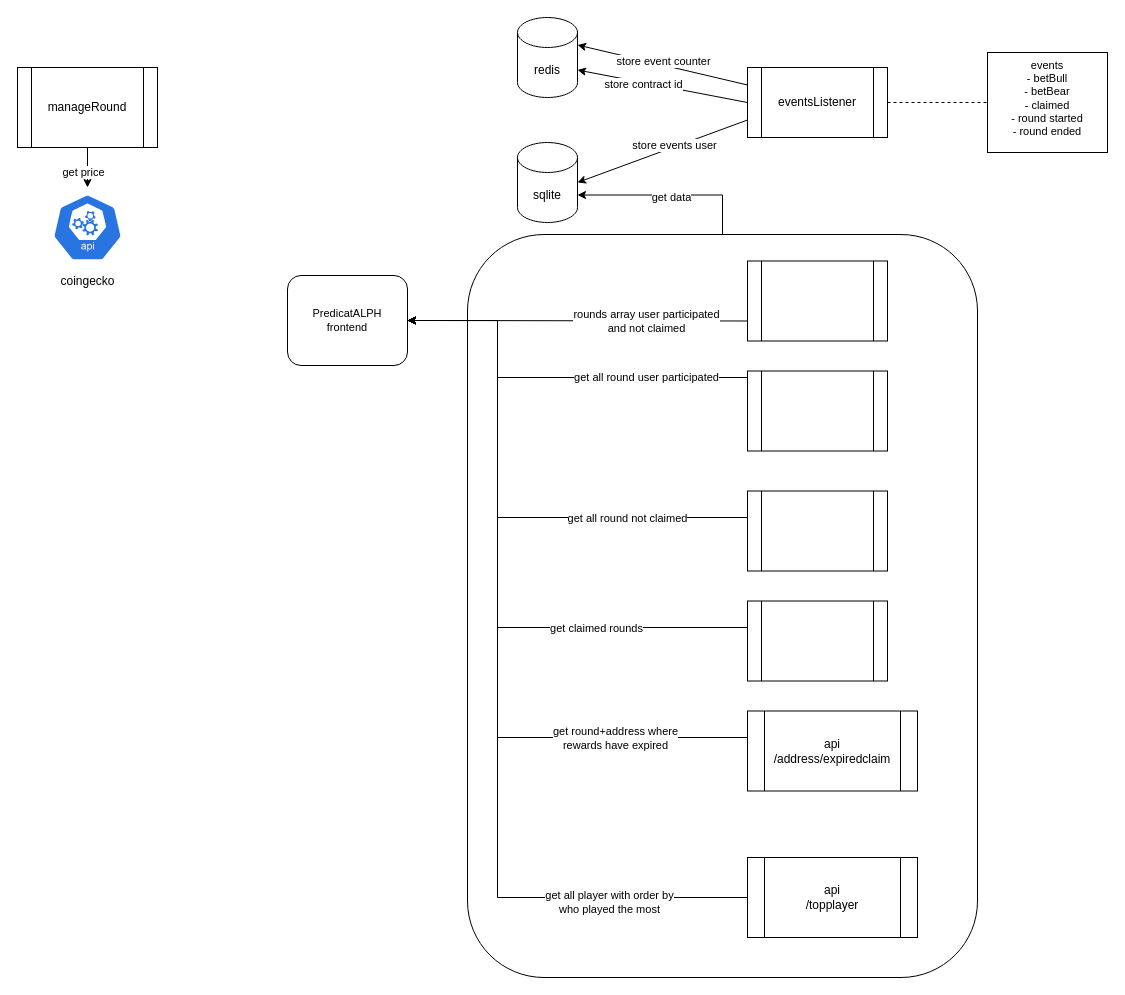
Some shapes in this 1125 by 995 pixel diagram are drawn without their labels. Each missing label, with the centre of its shape:
api /allround/:address: point 817,410
api /round/:address: point 817,300
api /round/claimed: point 817,640
api /round/notclaimed: point 817,530
